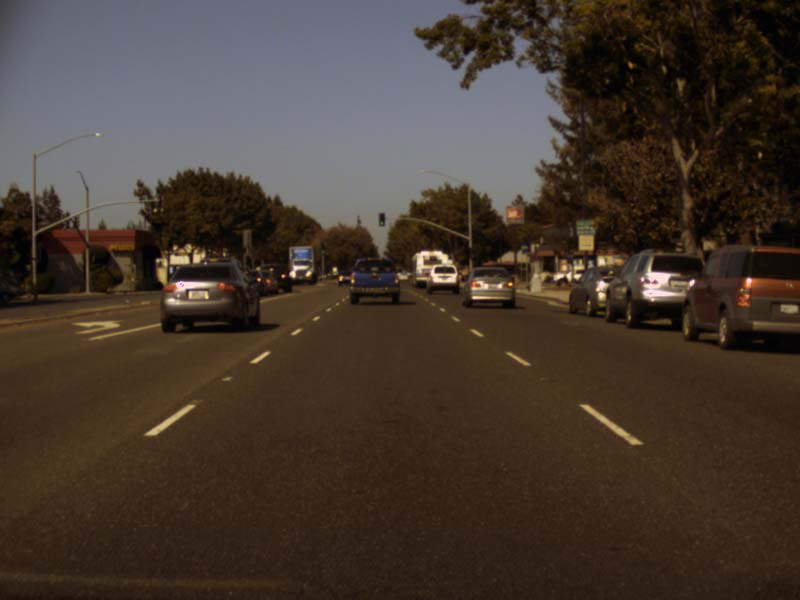Green: (378, 212, 385, 227), (320, 239, 325, 254)
